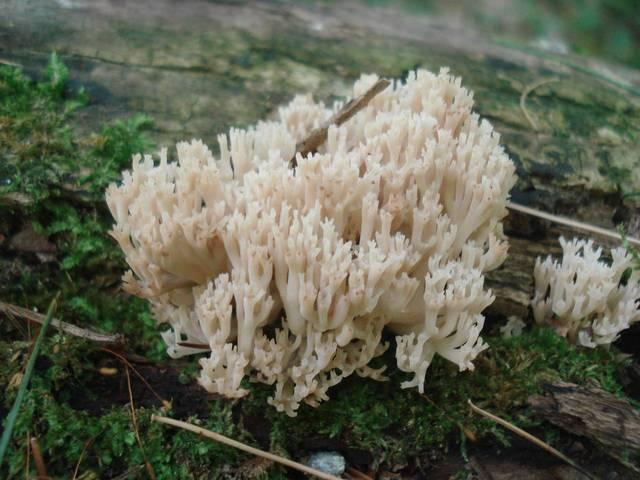Edible Mushroom: (103, 64, 518, 417), (529, 233, 639, 349)
